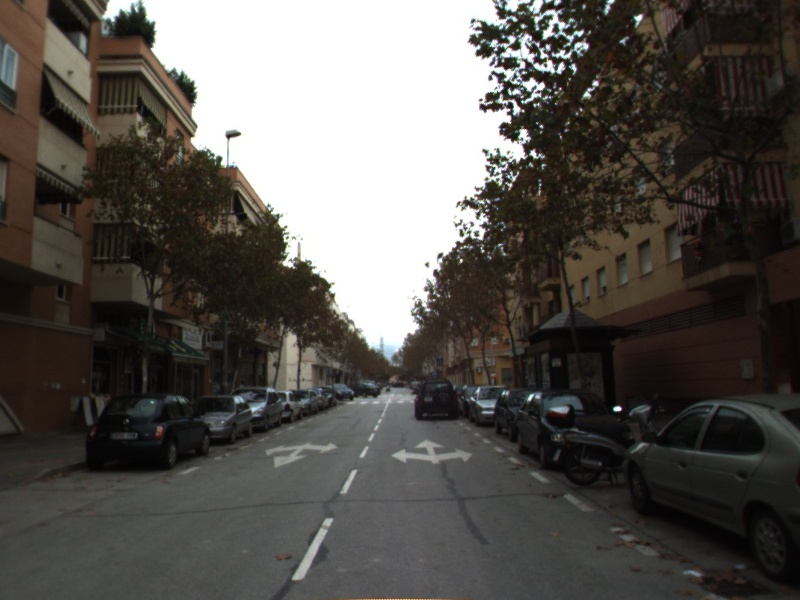STRAIGHT_LEFT_RIGHT: (390, 437, 475, 466)
